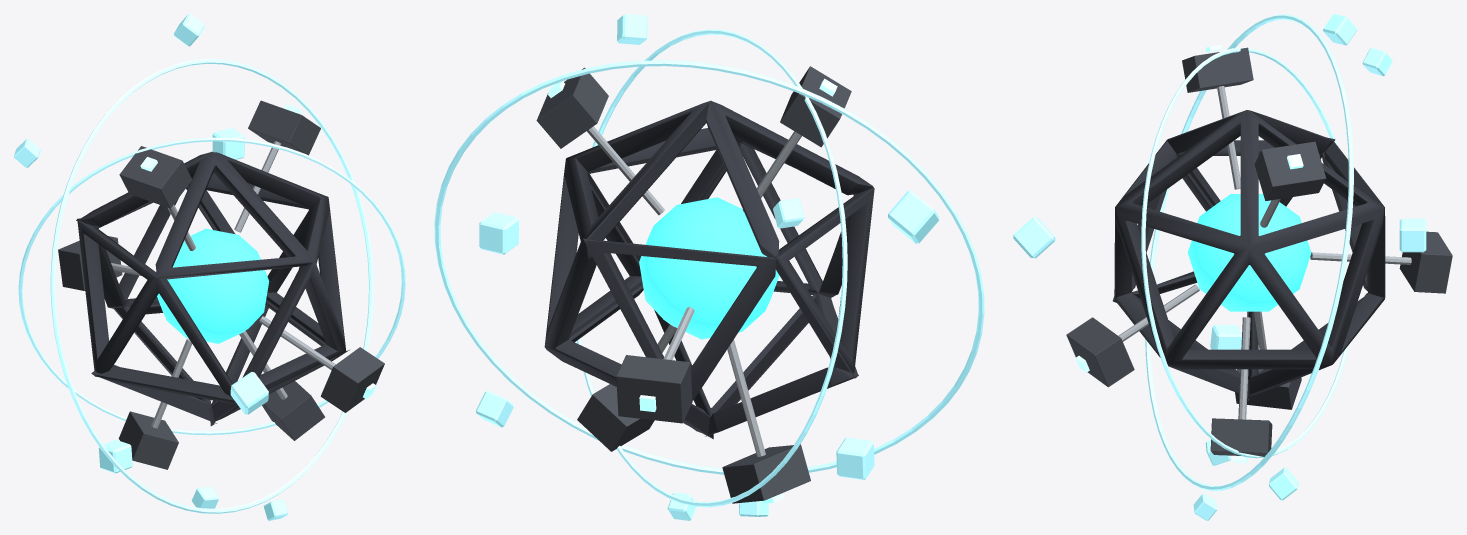
The model's file is orbital-core.glb.
3 renders of one model, left to right at view 1: azimuth 30°, elevation 25°; view 2: azimuth 150°, elevation 25°; view 3: azimuth 270°, elevation 25°, orthographic. The views are drawn at different scales.
Parts seen in each view (by area): view 1: OrbitalCore; view 2: OrbitalCore; view 3: OrbitalCore.
Boxes of the visible parts, x1,y1,x2,y2 form: OrbitalCore: (14, 14, 405, 520); OrbitalCore: (434, 14, 984, 520); OrbitalCore: (1013, 14, 1452, 520).
Bounding box in the file's own units: 1.04 × 1.23 × 0.9939.
